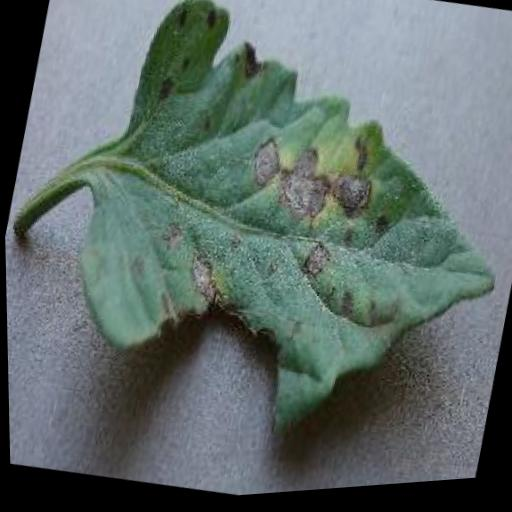Early Blight: (39, 0, 512, 491)
